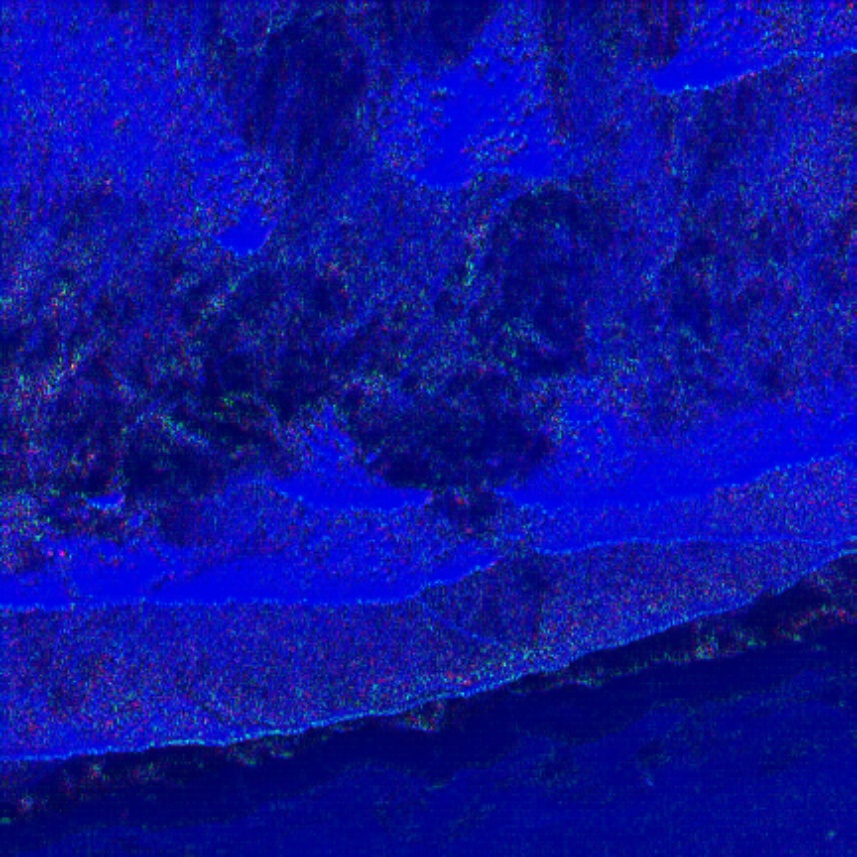rip_current: (381, 80, 675, 559)
